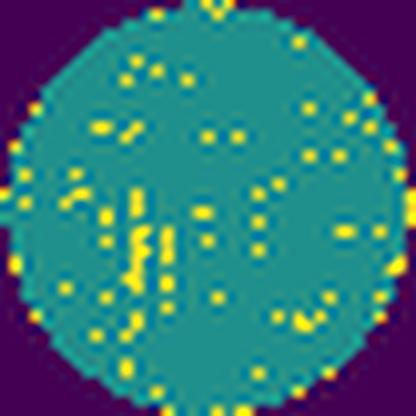Scratch: (115, 220, 156, 297)
